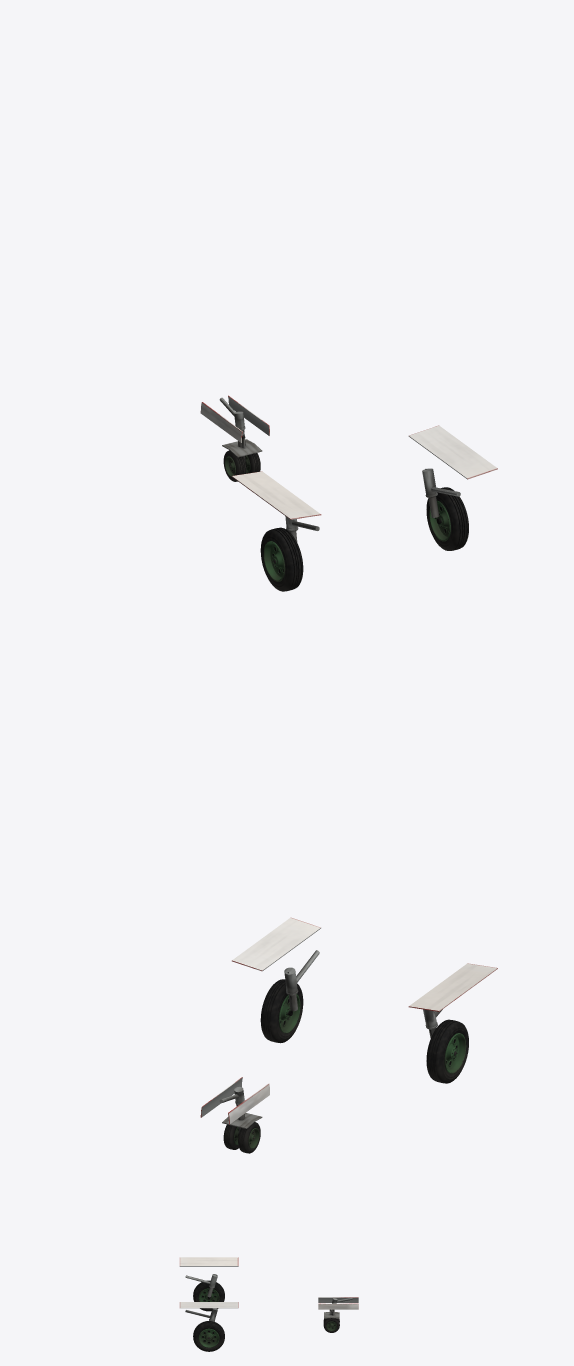
File: mig25_gear.glb
3 renders of one model, top to bottom at view 1: azimuth 30°, elevation 25°; view 2: azimuth 150°, elevation 25°; view 3: azimuth 270°, elevation 25°, orthographic. The views are drawn at different scales.
Visible parts, largest first — view 1: gear_m_l, gear_m_r, door_m_r_g, door_m_l_g, gear_n; view 2: gear_m_r, gear_m_l, door_m_r_g, door_m_l_g, gear_n; view 3: gear_m_r, gear_m_l, door_m_l_g, door_m_r_g, gear_n, door_n_r_g.
Boxes of the visible parts, x1,y1,x2,y2 form: gear_m_l: (260,516,319,591); gear_m_r: (422,468,468,550); door_m_r_g: (408,425,497,479); door_m_l_g: (232,471,321,519); gear_n: (219,397,262,481); gear_m_r: (260,950,319,1043); gear_m_l: (423,1009,468,1083); door_m_r_g: (232,917,320,971); door_m_l_g: (408,963,497,1011); gear_n: (219,1086,262,1153); gear_m_r: (185,1308,224,1351); gear_m_l: (185,1274,224,1311); door_m_l_g: (179,1257,238,1266); door_m_r_g: (179,1302,238,1308); gear_n: (323,1297,352,1332); door_n_r_g: (318,1303,358,1309).
Bounding box in the file's own units: 4.88 × 6.68 × 22.25.
1 material, 1 textured.
